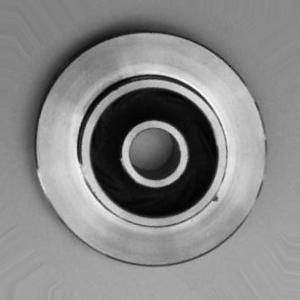defect: (203, 183, 231, 219)
